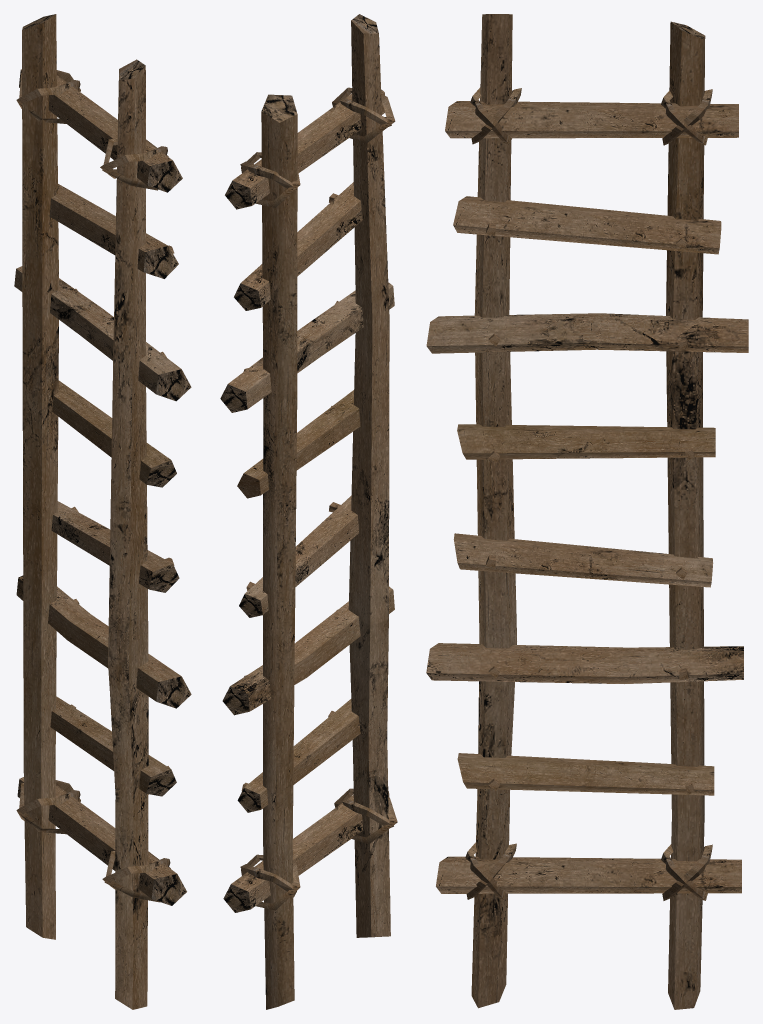
File: SM_Ladder_01.fbx
3 views of the same model, side by side, from view 1: azimuth 30°, elevation 25°; view 2: azimuth 150°, elevation 25°; view 3: azimuth 270°, elevation 25° (orthographic). The views are drawn at different scales.
Parts seen in each view (by area): view 1: SM_Ladder_01; view 2: SM_Ladder_01; view 3: SM_Ladder_01.
Part boxes in pixels (x1,y1,x2,y2): SM_Ladder_01: [14, 14, 191, 1009]; SM_Ladder_01: [220, 14, 397, 1009]; SM_Ladder_01: [426, 14, 748, 1009].
Bounding box in the file's own units: 37.3 × 484 × 142.
Materials: 1 (1 with a texture image).
